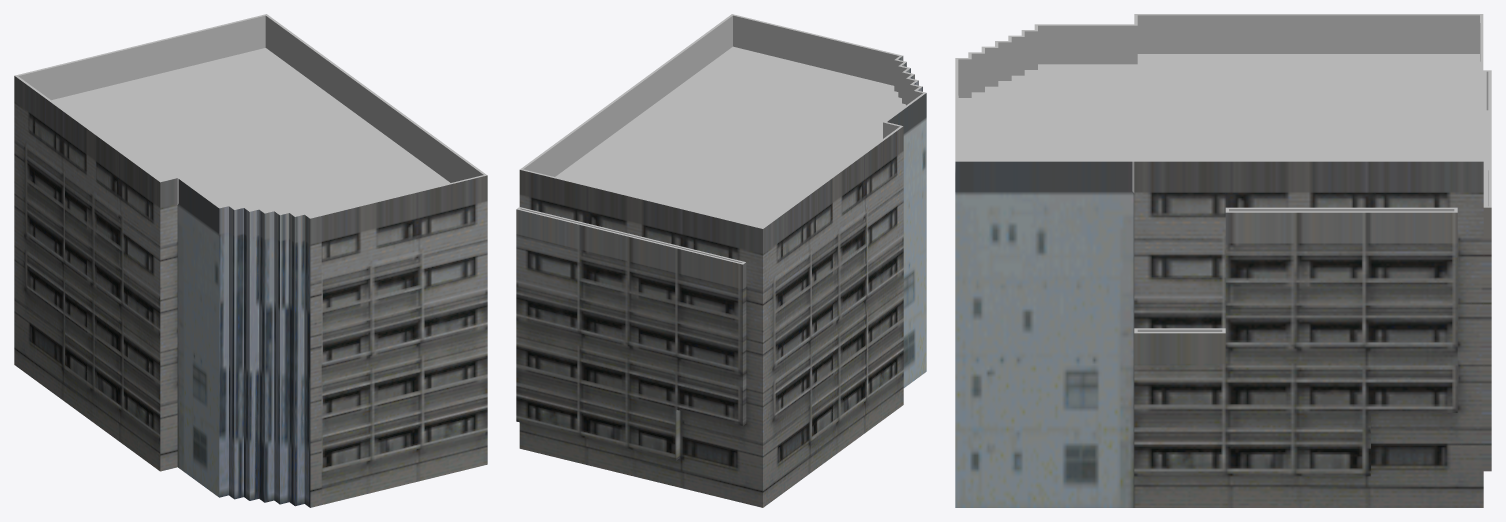
File: yk_uudetrakennukset_jp6.fbx
3 renders of one model, left to right at view 1: azimuth 30°, elevation 25°; view 2: azimuth 150°, elevation 25°; view 3: azimuth 270°, elevation 25°, orthographic. The views are drawn at different scales.
Visible parts, largest first — view 1: Cube.006; view 2: Cube.006; view 3: Cube.006.
Part boxes in pixels (x1,y1,x2,y2): Cube.006: (14,14,487,507); Cube.006: (516,14,926,507); Cube.006: (955,14,1491,507).
Size of the model in its own units: 600 by 635 by 891.
